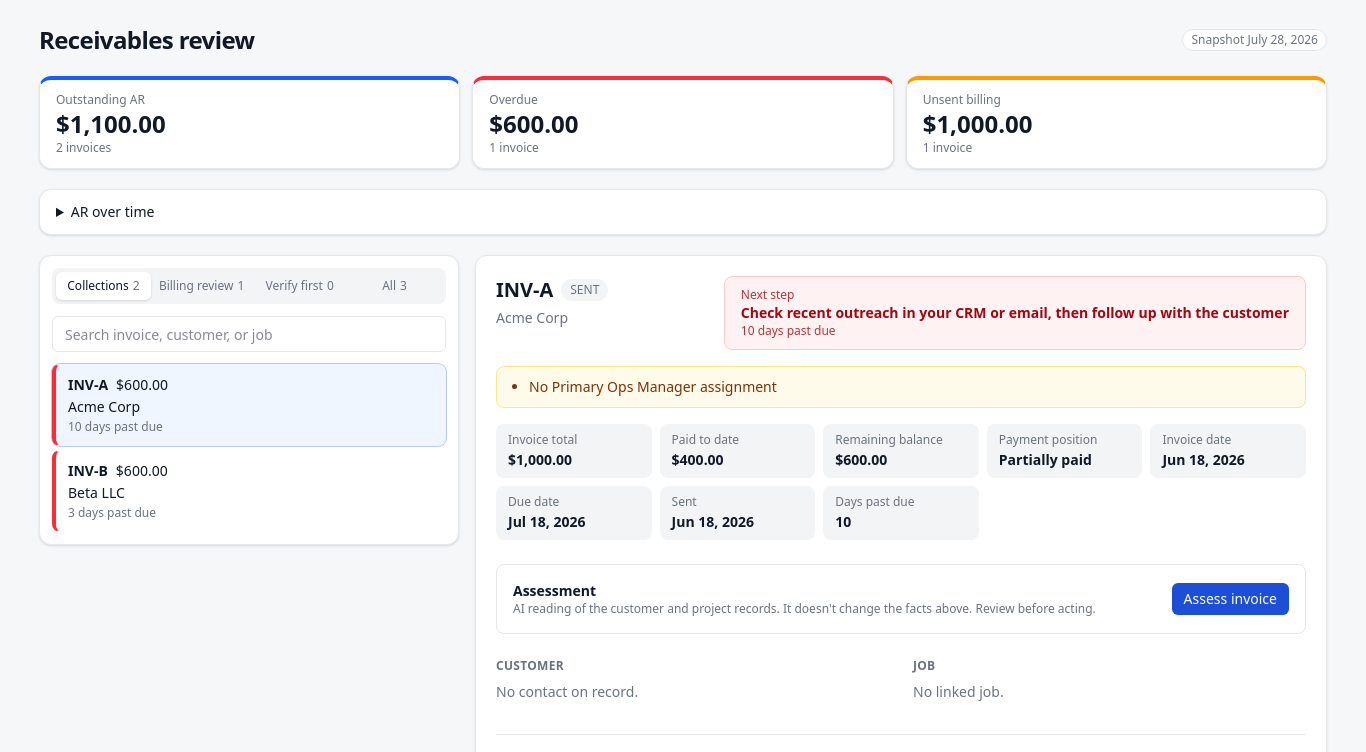
Test: a failed assessment shows the error and keeps the invoice facts
This screenshot has width=1366, height=752.
Click the button "Assess invoice". click: (1230, 599)
box: [1172, 583, 1289, 615]
(page scrolled)
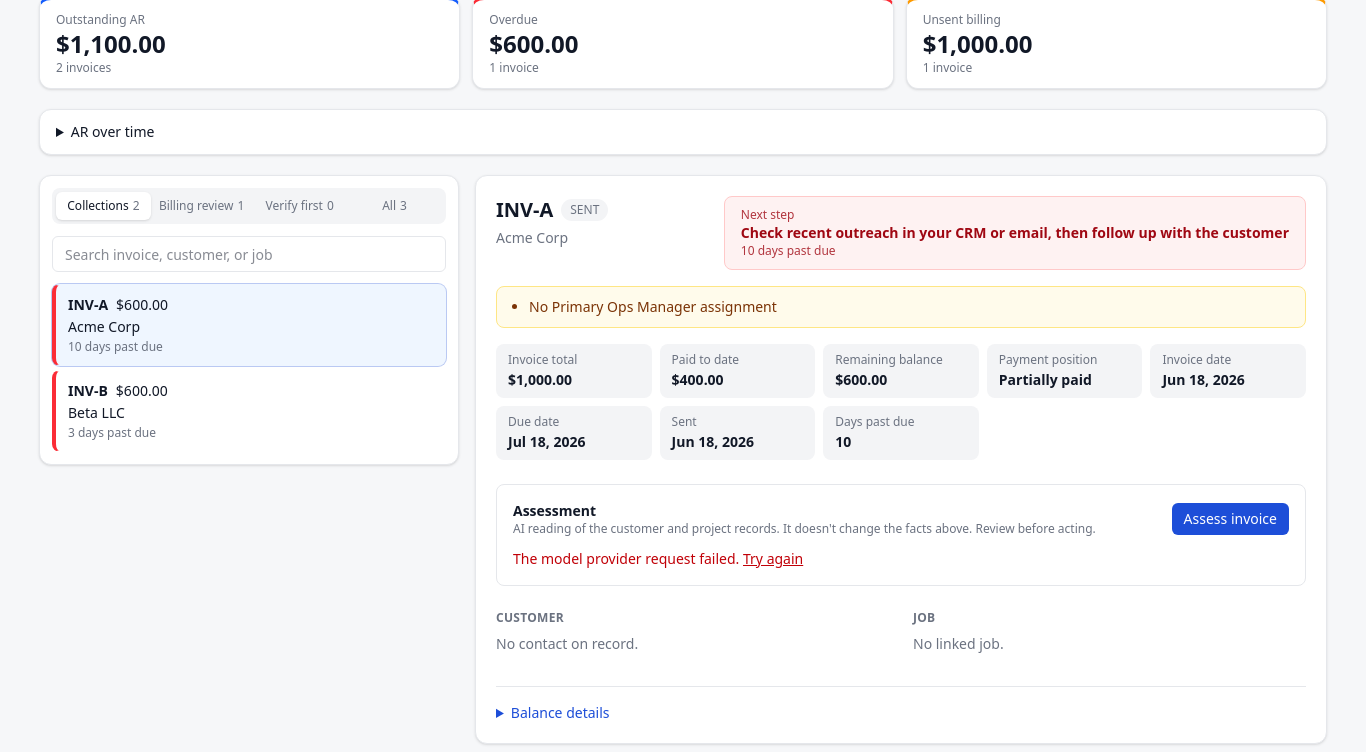
Now the text "The model provider request failed. Try again" is shown, box [513, 549, 803, 569]
